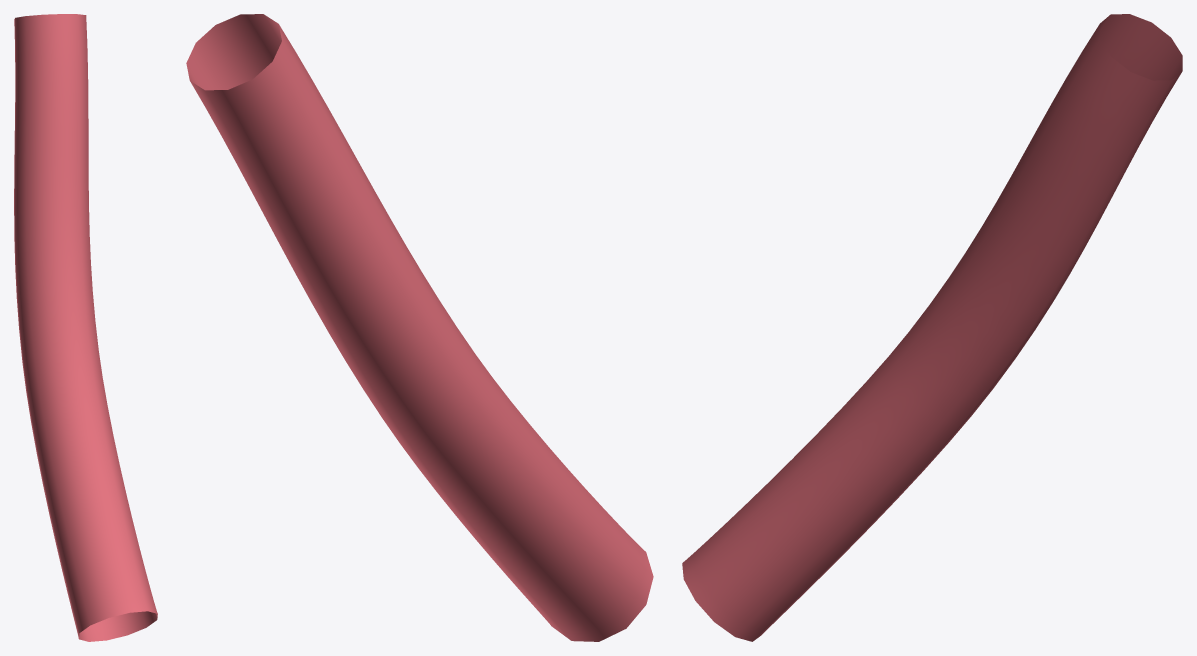
3 views of the same model, side by side, from view 1: azimuth 30°, elevation 25°; view 2: azimuth 150°, elevation 25°; view 3: azimuth 270°, elevation 25° (orthographic). The views are drawn at different scales.
Visible parts, largest first — view 1: ZA_65068c17d1aeb537; view 2: ZA_65068c17d1aeb537; view 3: ZA_65068c17d1aeb537.
Part boxes in pixels (box(x1,y1,x2,y2)): ZA_65068c17d1aeb537: box(14, 14, 157, 641); ZA_65068c17d1aeb537: box(186, 14, 653, 641); ZA_65068c17d1aeb537: box(682, 14, 1182, 641).
Bounding box in the file's own units: 0.00878 × 0.0268 × 0.0183.
